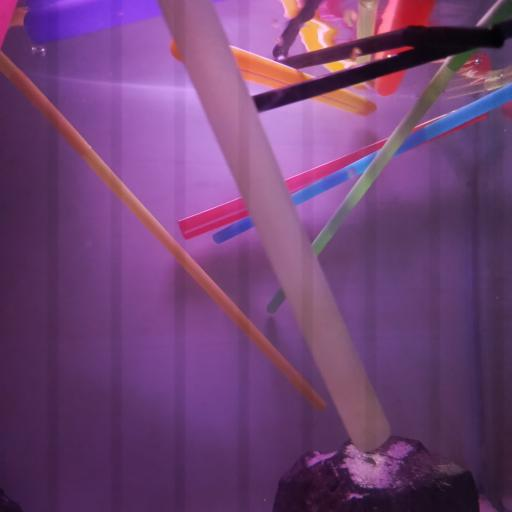plastic_straw: (0, 52, 327, 414), (158, 0, 392, 454), (265, 0, 512, 315), (211, 82, 512, 245), (176, 100, 487, 242), (250, 17, 512, 114), (170, 35, 377, 119), (276, 26, 505, 70), (373, 0, 436, 97), (444, 72, 512, 102), (355, 0, 378, 66)
